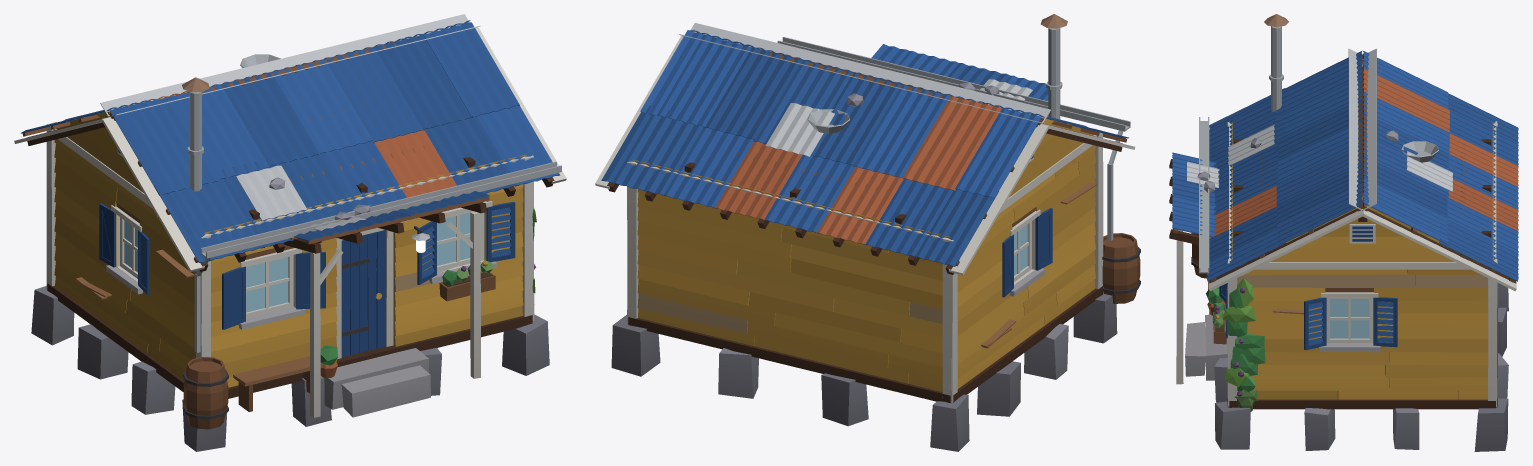
3 views of the same model, side by side, from view 1: azimuth 30°, elevation 25°; view 2: azimuth 150°, elevation 25°; view 3: azimuth 270°, elevation 25° (orthographic). The views are drawn at different scales.
Visible parts, largest first — view 1: H08_ROOF, H08_WALL_S, H08_WALL_W, H08_BASE, H08_DOOR_main; view 2: H08_ROOF, H08_WALL_N, H08_WALL_W, H08_BASE, H08_WALL_S; view 3: H08_ROOF, H08_WALL_E, H08_BASE, H08_WALL_S, H08_WALL_N.
Part boxes in pixels (bbox=[...]): H08_ROOF: bbox=[14, 14, 566, 272]; H08_WALL_S: bbox=[183, 154, 561, 429]; H08_WALL_W: bbox=[46, 106, 210, 379]; H08_BASE: bbox=[31, 283, 549, 451]; H08_DOOR_main: bbox=[341, 230, 385, 357]; H08_ROOF: bbox=[595, 14, 1135, 275]; H08_WALL_N: bbox=[627, 160, 951, 402]; H08_WALL_W: bbox=[949, 119, 1103, 402]; H08_BASE: bbox=[611, 286, 1117, 451]; H08_WALL_S: bbox=[777, 37, 1140, 303]; H08_ROOF: bbox=[1207, 14, 1518, 291]; H08_WALL_E: bbox=[1222, 193, 1497, 411]; H08_BASE: bbox=[1185, 283, 1508, 451]; H08_WALL_S: bbox=[1169, 117, 1237, 398]; H08_WALL_N: bbox=[1488, 122, 1497, 406].
Bounding box in the file's own units: 5.88 × 5.11 × 5.38.
